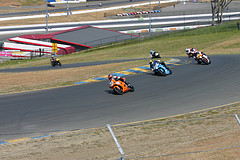helmet: (108, 74, 113, 78), (149, 59, 153, 64), (150, 48, 154, 51)
